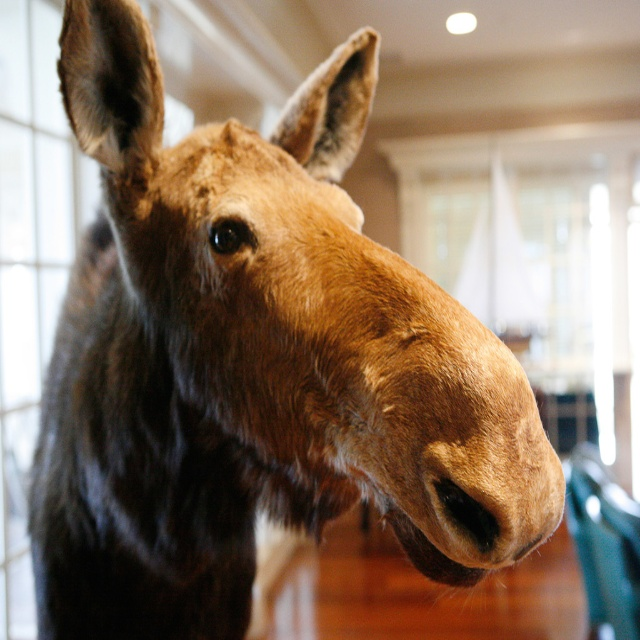Mule: (28, 0, 567, 639)
